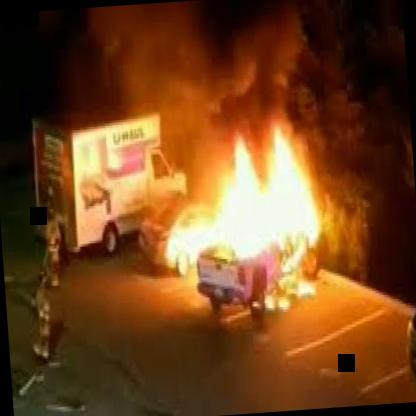fire: (176, 134, 330, 336)
